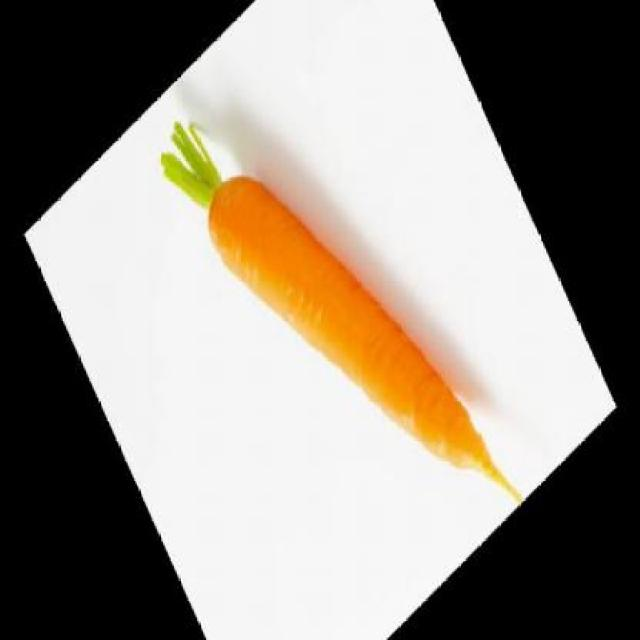carrot: (196, 62, 533, 635)
